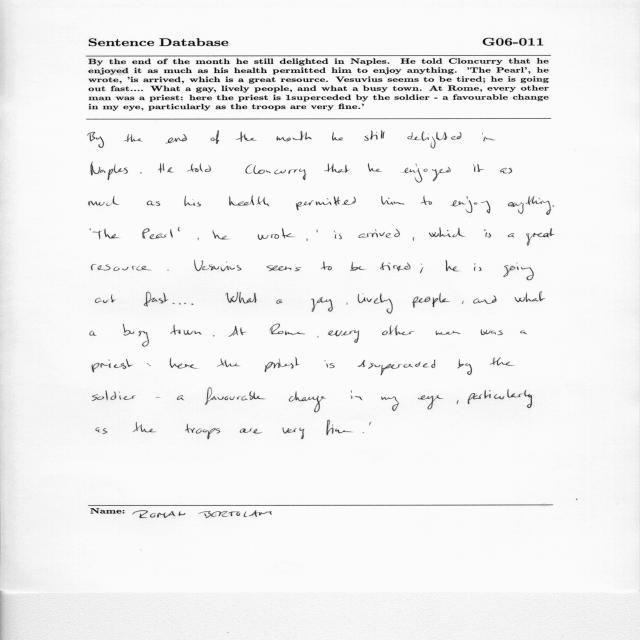word: (468, 389, 532, 408), (358, 360, 435, 375), (205, 388, 265, 405), (246, 164, 307, 180), (408, 132, 462, 149), (404, 164, 451, 183), (296, 197, 356, 211), (508, 196, 551, 215), (289, 392, 326, 413), (358, 294, 393, 314), (451, 197, 491, 214), (91, 162, 128, 180), (123, 324, 149, 347), (412, 293, 450, 308), (92, 359, 133, 372), (265, 358, 300, 373), (186, 424, 221, 439), (526, 228, 555, 246), (194, 260, 241, 271), (504, 263, 534, 280), (92, 390, 136, 401), (258, 228, 294, 240), (92, 264, 152, 271), (328, 330, 360, 343), (229, 196, 270, 206), (326, 420, 353, 435), (270, 324, 305, 335), (358, 229, 400, 238), (418, 395, 443, 410), (226, 292, 257, 304), (429, 228, 466, 238), (144, 292, 168, 307), (277, 131, 312, 141), (142, 228, 173, 239), (311, 297, 333, 312), (382, 325, 415, 335), (171, 325, 202, 335), (89, 196, 119, 206), (515, 292, 545, 302), (170, 358, 197, 369), (380, 263, 411, 272), (87, 132, 104, 148), (93, 229, 120, 239), (381, 396, 399, 411), (324, 163, 350, 173), (283, 427, 304, 439), (457, 359, 472, 375), (236, 131, 257, 142), (133, 422, 156, 432), (165, 134, 187, 144), (365, 130, 385, 141), (187, 163, 211, 172), (381, 196, 405, 205), (266, 265, 301, 271), (228, 326, 247, 337), (474, 295, 497, 304), (490, 357, 513, 366), (217, 359, 240, 367), (96, 295, 116, 304), (184, 196, 201, 206), (212, 230, 230, 239), (124, 134, 143, 142), (158, 163, 173, 173), (446, 260, 459, 271), (350, 262, 365, 271), (481, 329, 503, 335), (211, 130, 220, 144), (368, 163, 382, 172), (436, 330, 461, 335), (351, 391, 363, 401), (482, 133, 495, 142), (240, 429, 262, 434), (420, 196, 432, 205), (321, 262, 332, 271), (332, 133, 343, 141), (473, 164, 484, 172), (324, 361, 335, 369), (96, 427, 107, 434), (500, 168, 512, 174), (334, 231, 342, 240), (147, 201, 160, 206), (484, 230, 491, 238), (474, 264, 481, 272), (90, 331, 97, 336), (177, 395, 184, 400), (508, 233, 514, 238), (420, 264, 423, 274), (277, 299, 283, 304), (520, 331, 527, 335), (173, 303, 186, 305), (178, 227, 180, 232), (147, 363, 150, 366), (413, 237, 415, 241), (457, 400, 459, 404), (369, 422, 371, 426), (191, 303, 194, 305), (462, 301, 464, 304), (140, 172, 142, 174), (317, 229, 318, 233), (167, 269, 169, 271), (213, 335, 215, 337), (156, 397, 160, 398), (90, 228, 91, 231), (307, 238, 308, 241), (553, 205, 554, 207), (198, 238, 199, 240), (347, 303, 348, 305), (318, 336, 319, 338), (363, 432, 365, 433)
